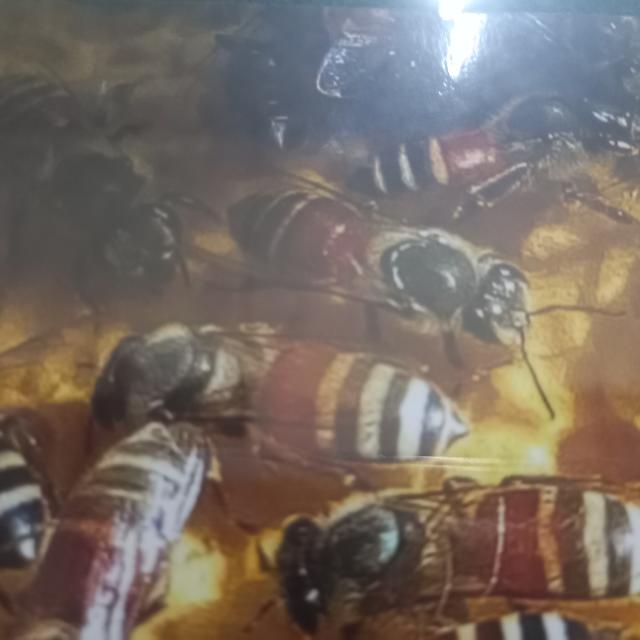honeybee: (280, 475, 640, 627), (252, 148, 530, 334), (7, 88, 195, 286), (98, 340, 470, 434), (32, 440, 178, 640)
